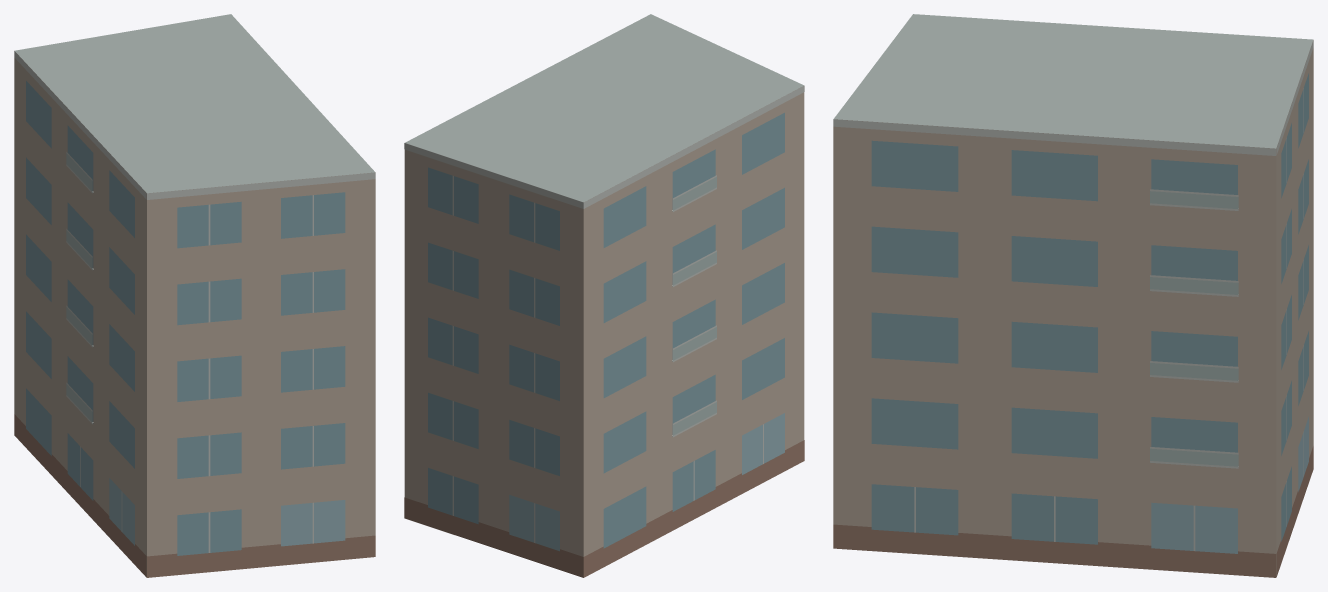
The model's file is survey-upis-32730190.glb.
3 renders of one model, left to right at view 1: azimuth 30°, elevation 25°; view 2: azimuth 150°, elevation 25°; view 3: azimuth 270°, elevation 25°, orthographic. The views are drawn at different scales.
Visible parts, largest first — view 1: survey-upis-32730190.tmp; view 2: survey-upis-32730190.tmp; view 3: survey-upis-32730190.tmp.
Part boxes in pixels (x1,y1,x2,y2): survey-upis-32730190.tmp: (14,14,375,577); survey-upis-32730190.tmp: (404,14,804,577); survey-upis-32730190.tmp: (833,14,1313,577).
Size of the model in its own units: 9.35 by 13.9 by 14.1.
